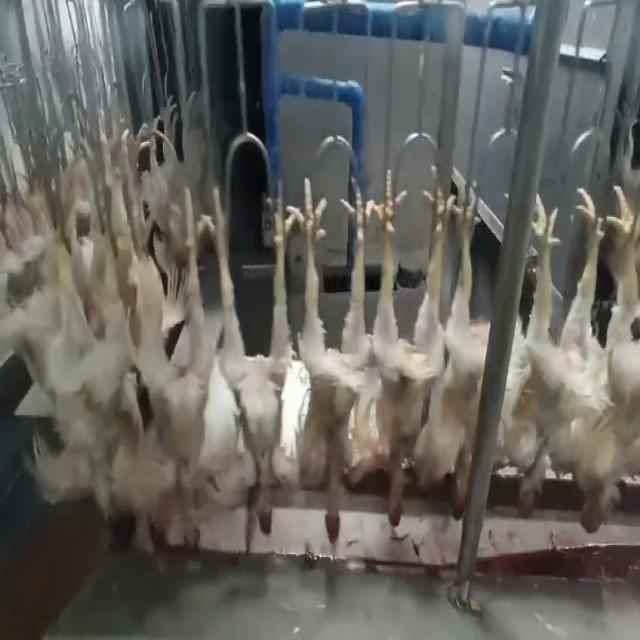chicken: (353, 180, 460, 528), (404, 191, 495, 531), (197, 182, 285, 533), (286, 171, 366, 554), (106, 204, 197, 530), (569, 177, 639, 536), (494, 195, 568, 524)
